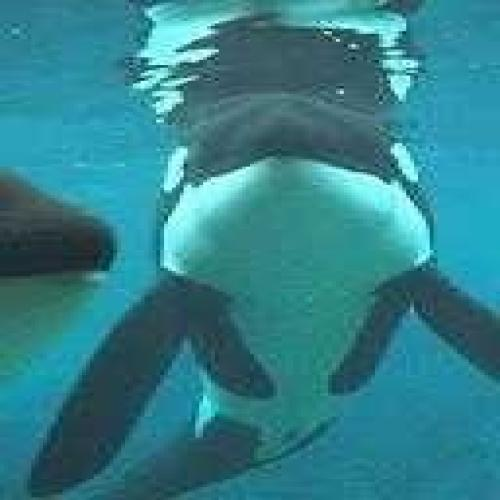killer_whale-endangered: (94, 80, 446, 484)
